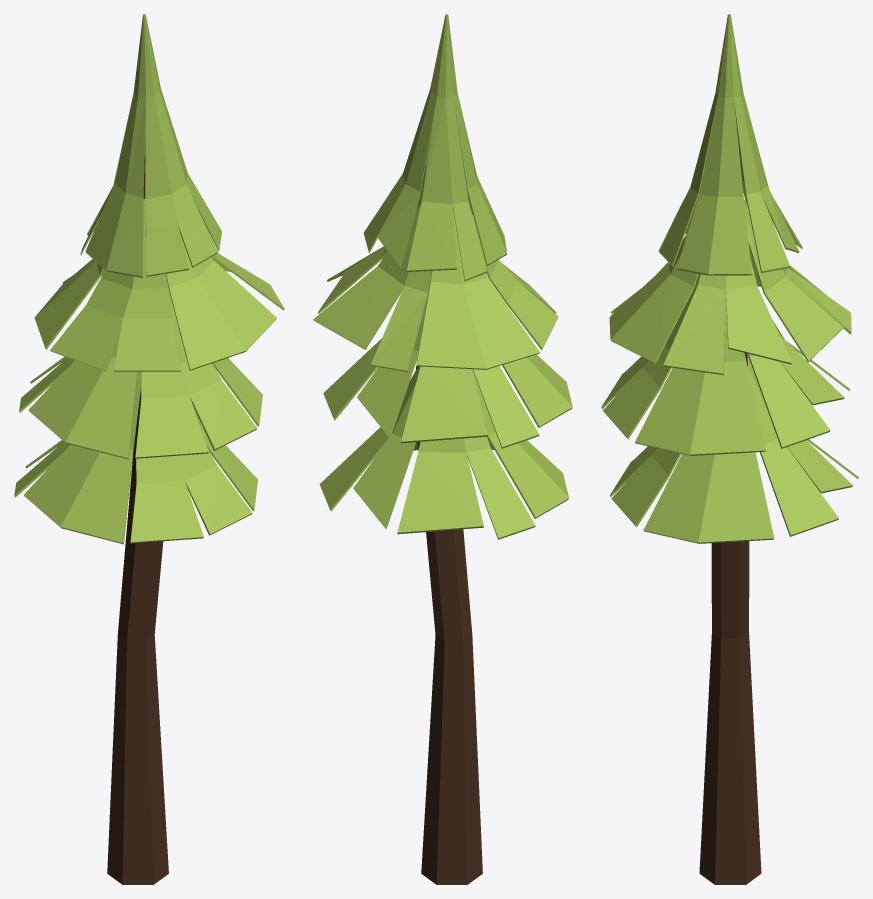
The model's file is Tree_5.fbx.
3 views of the same model, side by side, from view 1: azimuth 30°, elevation 25°; view 2: azimuth 150°, elevation 25°; view 3: azimuth 270°, elevation 25° (orthographic).
Visible parts, largest first — view 1: M_Tree 5; view 2: M_Tree 5; view 3: M_Tree 5.
Part boxes in pixels (x1,y1,x2,y2): M_Tree 5: [14, 14, 284, 884]; M_Tree 5: [313, 14, 572, 884]; M_Tree 5: [601, 14, 858, 884].
Size of the model in its own units: 0.5698 by 2.01 by 0.5447.
Materials: 1 (1 with a texture image).
